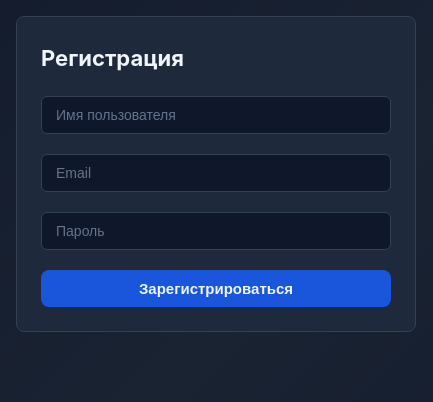
it: RegisterForm › показывает ошибку, если email занят
Type "testuser" into the field with placeholder "Имя пользователя".
click(216, 115); type("testuser")  # box [41,96,391,134]
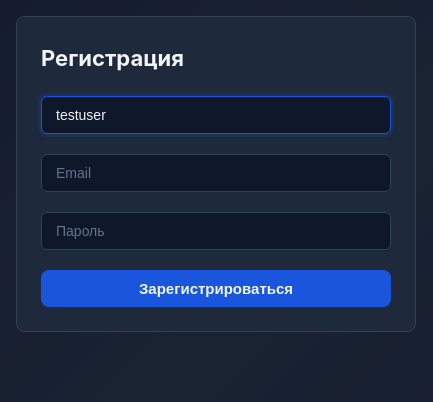
Type "test@test.com" into the field with placeholder "Email".
click(216, 173); type("test@test.com")  # box [41,154,391,192]
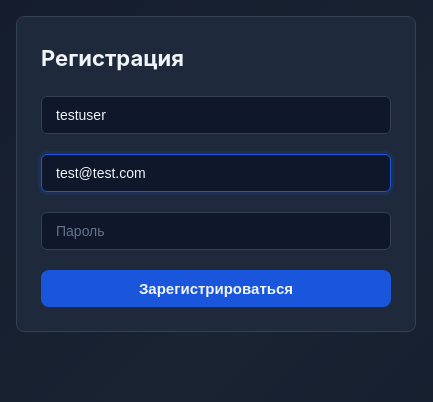
Type "123456" into the password field with placeholder "Пароль".
click(216, 231); type("123456")  # box [41,212,391,250]
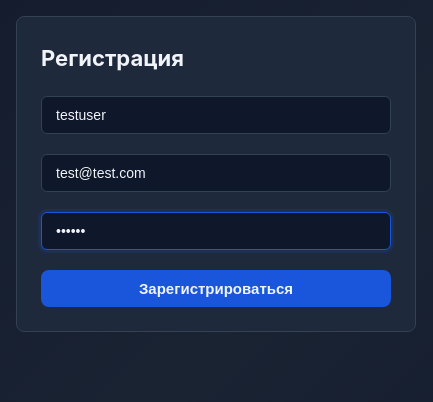
Click the button "Зарегистрироваться".
click(216, 289)  # box [41,270,391,307]
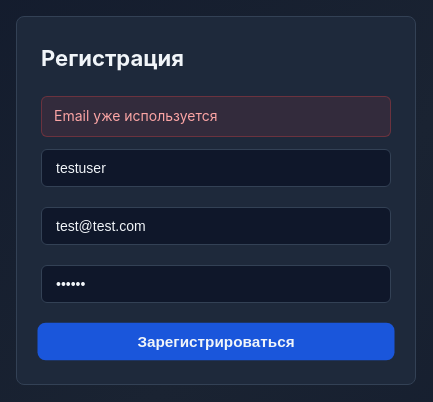
Result: the text "Email уже используется" is shown at [41,96,391,137]
